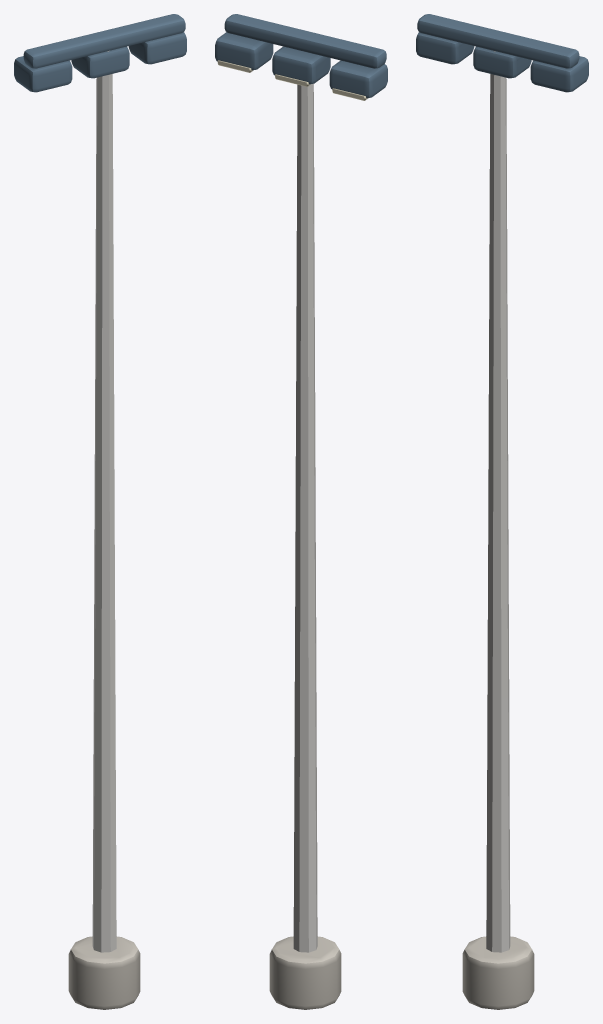
File: light_mast.glb
3 renders of one model, left to right at view 1: azimuth 30°, elevation 25°; view 2: azimuth 150°, elevation 25°; view 3: azimuth 330°, elevation 25°, orthographic.
Parts seen in each view (by area): view 1: light_mast; view 2: light_mast; view 3: light_mast.
Part boxes in pixels (left/top/right/bottom): light_mast: left=14, top=14, right=186, bottom=1009; light_mast: left=215, top=14, right=387, bottom=1009; light_mast: left=416, top=14, right=588, bottom=1009.
Size of the model in its own units: 1.32 by 7.71 by 0.52.
